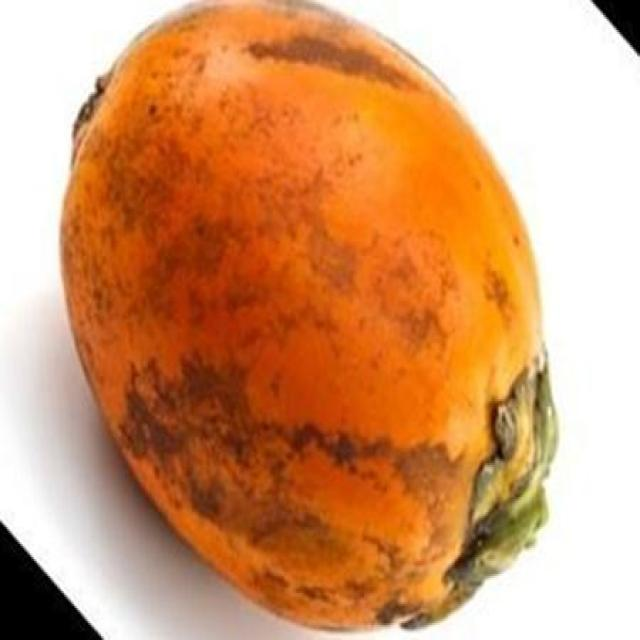good: (58, 0, 560, 634)
